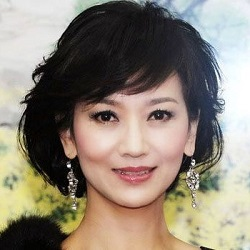unmask: (71, 64, 190, 210)
